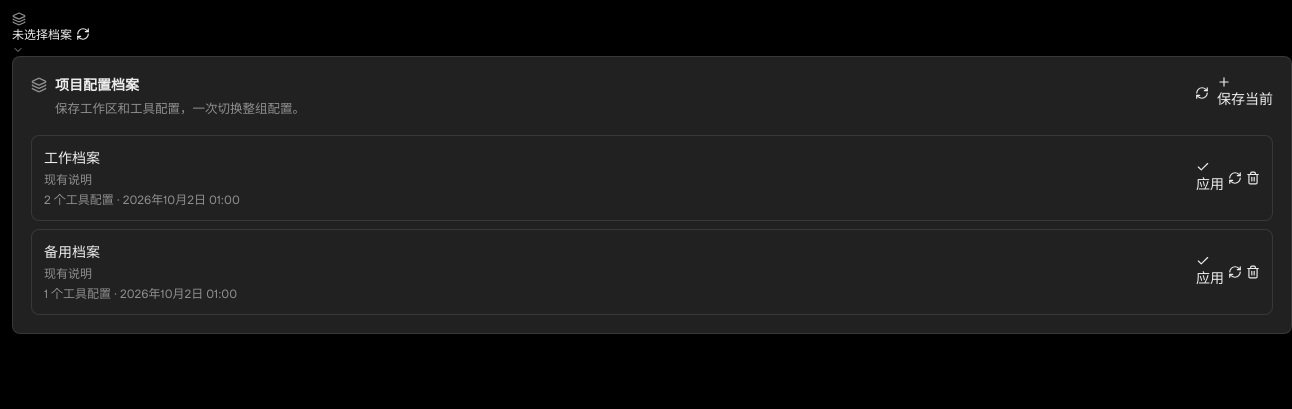
Scenario: project profile panel and shared title-bar selection › keeps returned apply state and both cached profiles after refresh failure
This screenshot has width=1292, height=409.
Expected: the element "工作档案" is shown, [31, 135, 1273, 221]
Click the button "应用" in the row of "工作档案" at {"x": 1210, "y": 178}, box [1196, 160, 1224, 195]
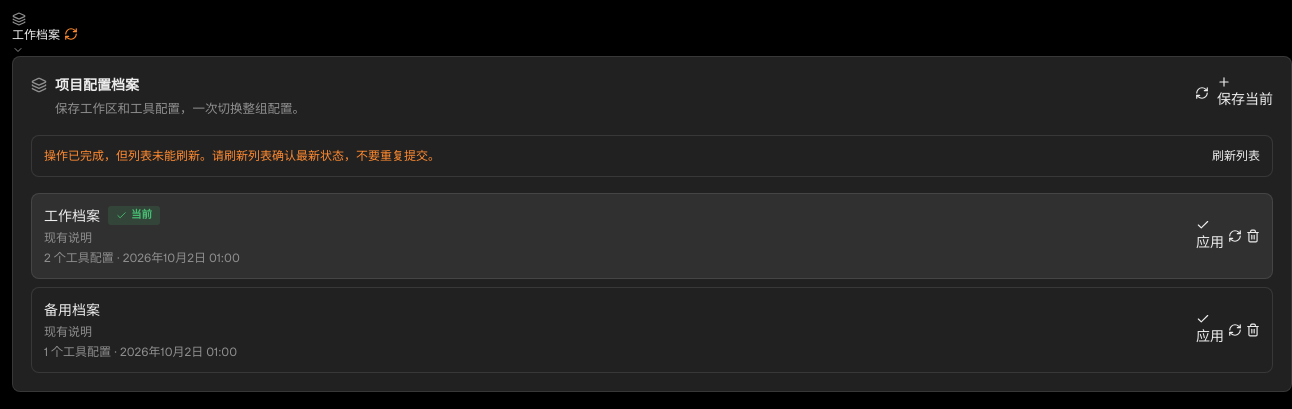
Now the message "操作已完成，但列表未能刷新。请刷新列表确认最新状态，不要重复提交。 刷新列表" is shown, box [31, 135, 1273, 177]
Now the dropdown reads "工作档案", box [12, 12, 60, 56]
